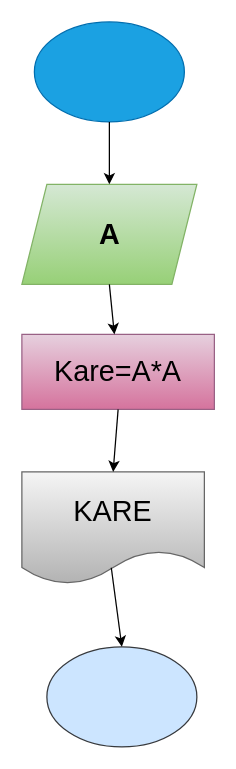
This 236x769 diagram has some shape labels left out. The centre of each missing label's shape, as x and y in pixels:
BAŞLA: point (108, 71)
BİTİR: point (121, 696)
